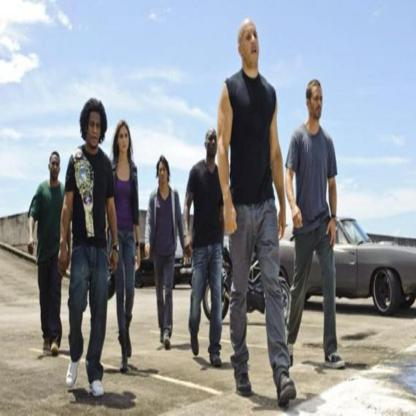face: (243, 25, 260, 65), (89, 112, 102, 148), (311, 88, 323, 119), (119, 127, 130, 153), (208, 132, 218, 157), (50, 157, 60, 180), (159, 164, 168, 184)
